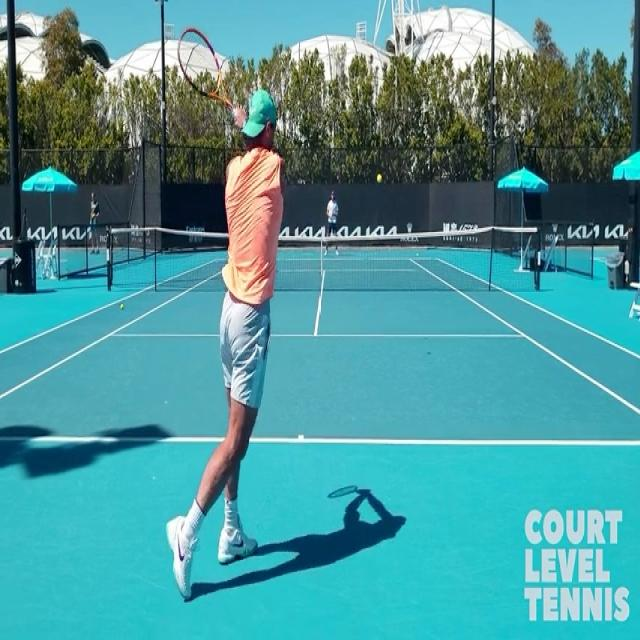backhand-finish: (168, 27, 294, 611)
